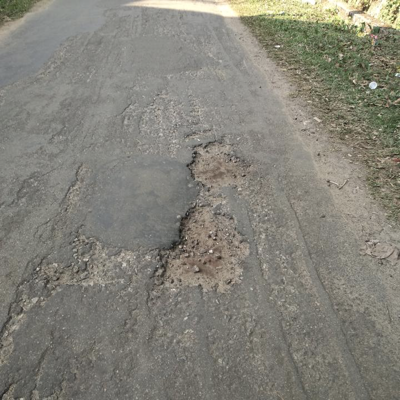pothole: (157, 202, 253, 294), (34, 238, 127, 290), (188, 136, 251, 188)
